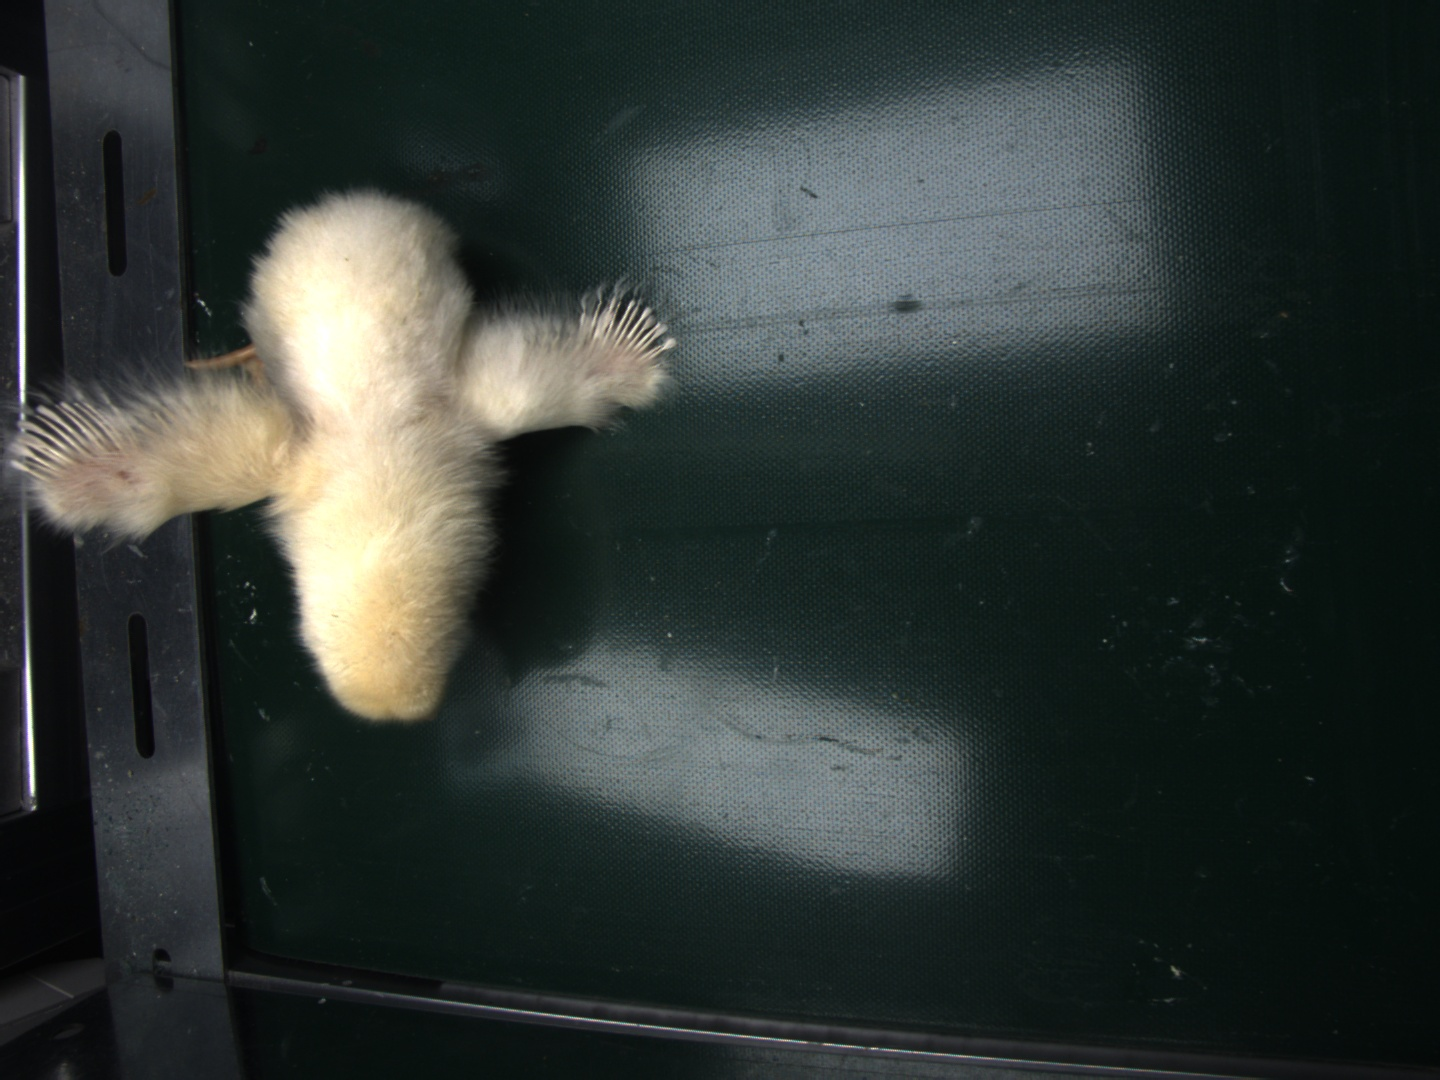male: (10, 394, 117, 484), (588, 307, 663, 360)
